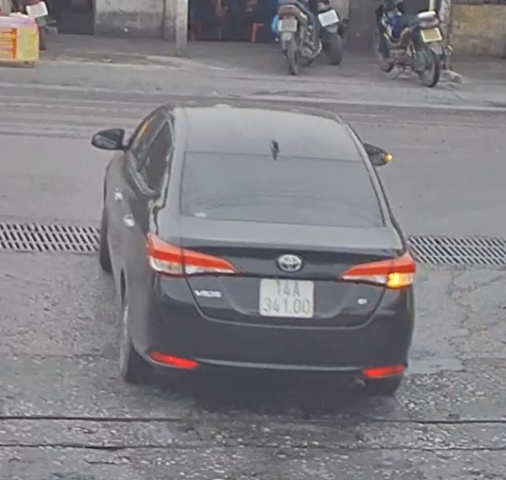vehicle plate: (256, 271, 318, 321)
